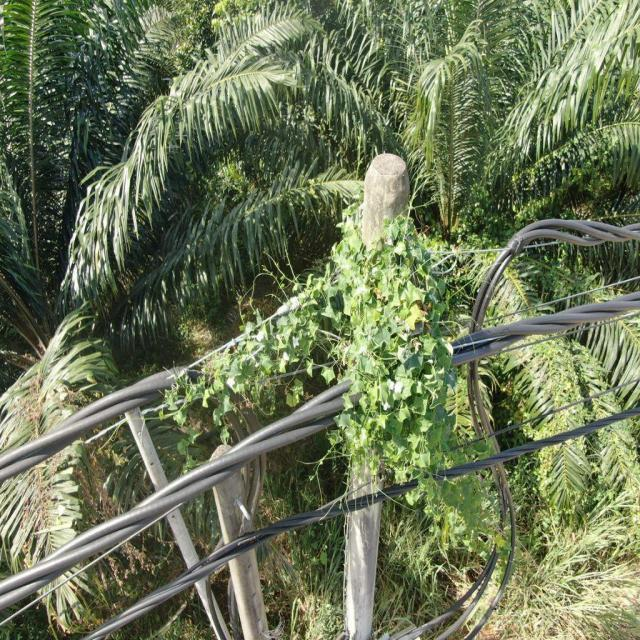critical vegetation: (158, 197, 513, 604)
